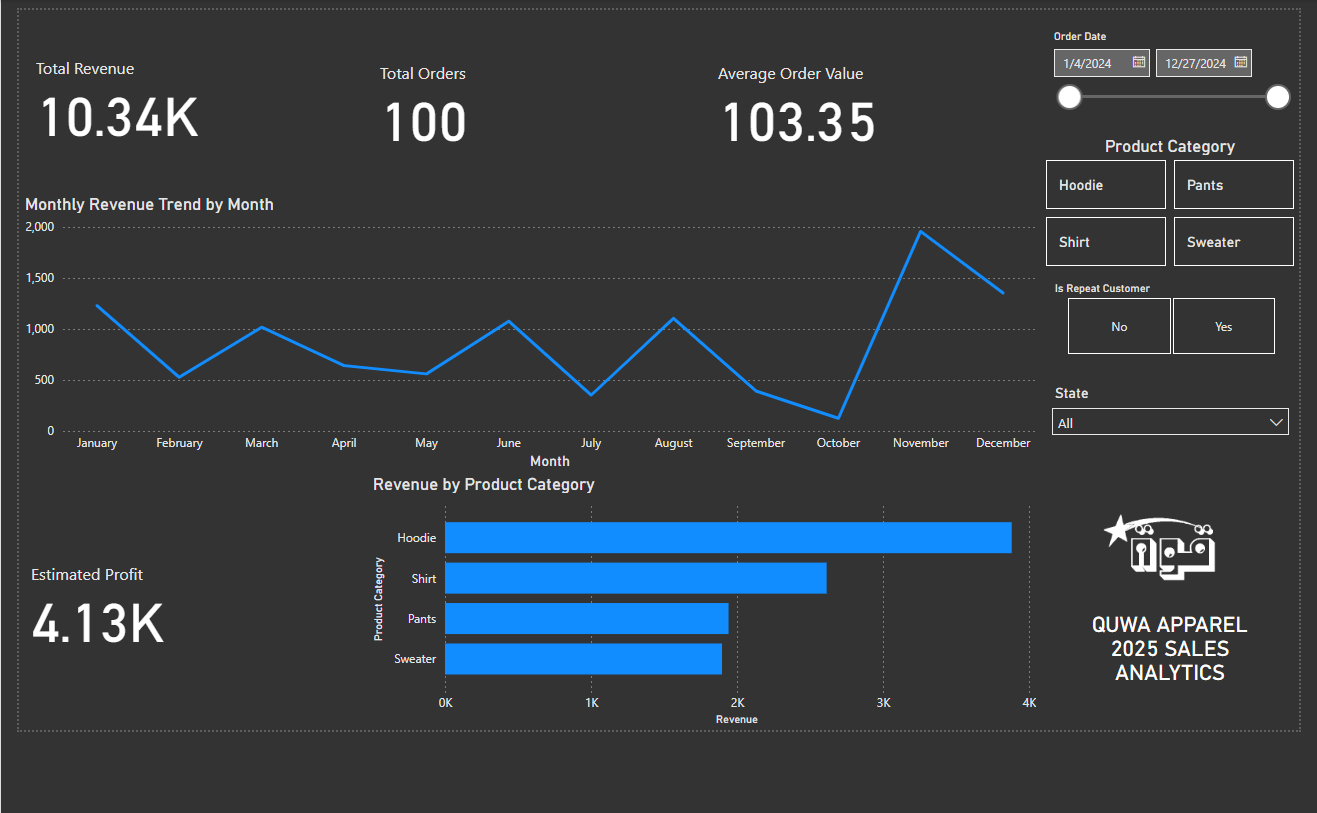

This screenshot's page, from the dashboard's own definition file:
{"tool":"powerbi","page":{"name":"Executive Summary","canvas":[1280,720],"ordinal":0},"visuals":[{"type":"cardVisual","fields":{"Data":["Sum(quwa_sales_data.Calculated Revenue)"]},"box":[0,0,349.2,183.8],"z":0},{"type":"cardVisual","fields":{"Data":["CountNonNull(quwa_sales_data.Order ID)"]},"box":[349.2,0,346.3,193.6],"z":1000},{"type":"cardVisual","fields":{"Data":["quwa_sales_data.Average Order Value"]},"box":[685.7,0,336.5,193.6],"z":2000},{"type":"lineChart","fields":{"Category":["quwa_sales_data.Order Date.Variation.Date Hierarchy.Month"],"Y":["Sum(quwa_sales_data.Calculated Revenue)"]},"box":[1,183.8,1021.3,280.1],"z":3000},{"type":"clusteredBarChart","fields":{"Y":["Sum(quwa_sales_data.Calculated Revenue)"],"Category":["quwa_sales_data.Product Category"]},"box":[349.2,464,673.1,255.8],"z":4000},{"type":"cardVisual","fields":{"Data":["Sum(quwa_sales_data.Estimated Profit)"]},"box":[0,475.6,349.2,244.1],"z":5000},{"type":"slicer","fields":{"Values":["quwa_sales_data.Order Date"]},"box":[1022.2,0,257.8,126.4],"z":6000},{"type":"advancedSlicerVisual","fields":{"Values":["quwa_sales_data.Product Category"]},"box":[1022.2,126.4,257.8,134.2],"z":7000},{"type":"slicer","fields":{"Values":["quwa_sales_data.Is Repeat Customer"]},"box":[1022.5,261.2,257.5,98.8],"z":8000},{"type":"slicer","fields":{"Values":["quwa_sales_data.State"]},"box":[1022.5,360,257.5,103.8],"z":9000},{"type":"image","box":[1057.1,450,167.1,180],"z":10000},{"type":"textbox","box":[1028.6,597.1,244.3,100],"z":11000}]}

Visuals, with their boxes on the page's 1280x720 design canvas (x1, y1, x2, y2). These are canvas units, not pixel positions in the 1317x813 screenshot, which may show the page scaled, cropped or inside an application window:
cardVisual - Sum(quwa_sales_data.Calculated Revenue): left=0, top=0, right=349, bottom=184
cardVisual - CountNonNull(quwa_sales_data.Order ID): left=349, top=0, right=696, bottom=194
cardVisual - quwa_sales_data.Average Order Value: left=686, top=0, right=1022, bottom=194
lineChart - quwa_sales_data.Order Date.Variation.Date Hierarchy.Month x Sum(quwa_sales_data.Calculated Revenue): left=1, top=184, right=1022, bottom=464
clusteredBarChart - Sum(quwa_sales_data.Calculated Revenue) x quwa_sales_data.Product Category: left=349, top=464, right=1022, bottom=720
cardVisual - Sum(quwa_sales_data.Estimated Profit): left=0, top=476, right=349, bottom=720
slicer - quwa_sales_data.Order Date: left=1022, top=0, right=1280, bottom=126
advancedSlicerVisual - quwa_sales_data.Product Category: left=1022, top=126, right=1280, bottom=261
slicer - quwa_sales_data.Is Repeat Customer: left=1022, top=261, right=1280, bottom=360
slicer - quwa_sales_data.State: left=1022, top=360, right=1280, bottom=464
image: left=1057, top=450, right=1224, bottom=630
textbox: left=1029, top=597, right=1273, bottom=697
